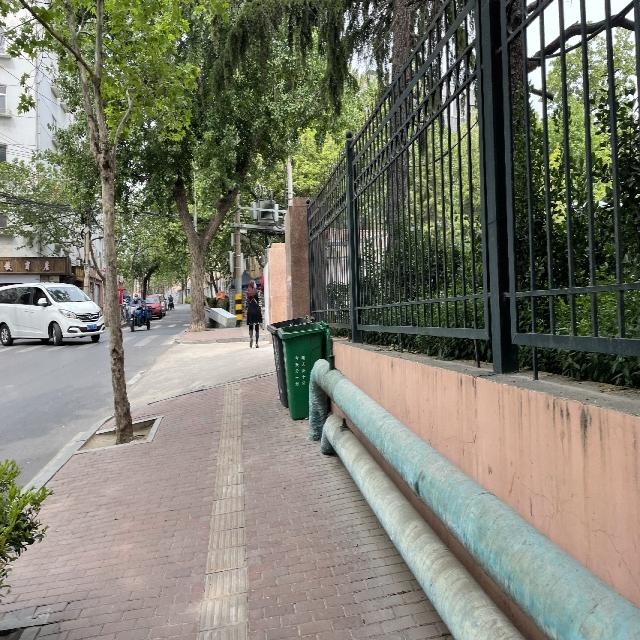garbage_bin: (278, 322, 324, 419), (266, 317, 306, 408)
